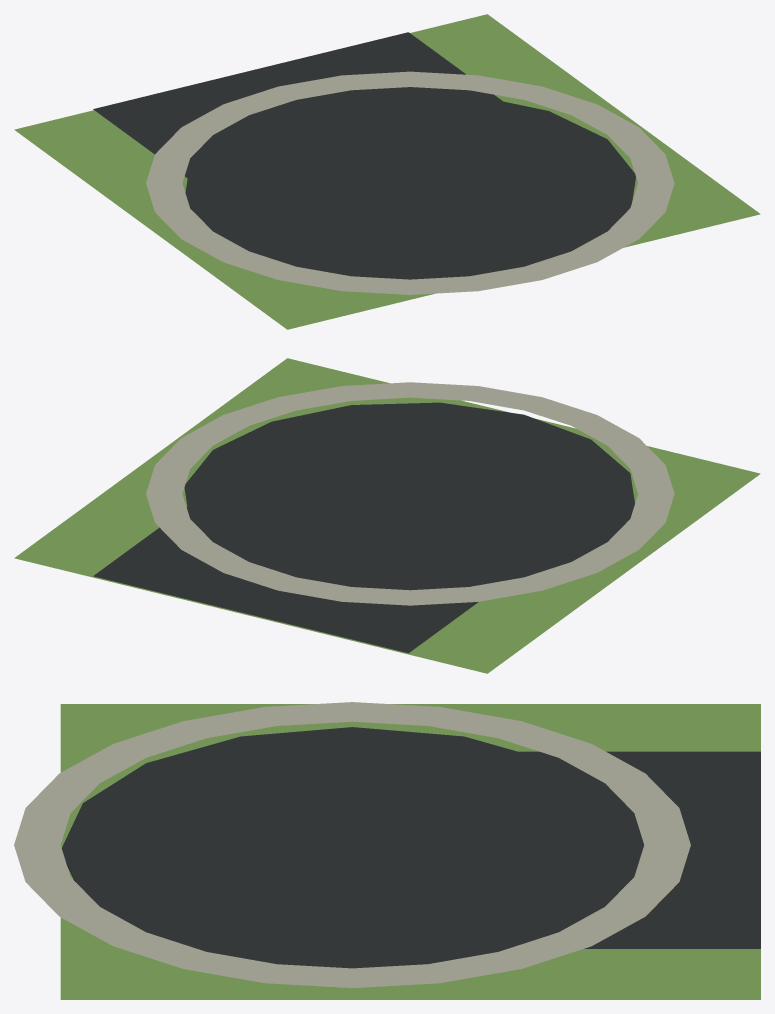
File: RoadDeadEnd.obj
The picture shows the model from 3 angles, top to bottom: view 1: azimuth 30°, elevation 25°; view 2: azimuth 150°, elevation 25°; view 3: azimuth 270°, elevation 25°; orthographic projection. The views are drawn at different scales.
Parts seen in each view (by area): view 1: RoadDeadEnd; view 2: RoadDeadEnd; view 3: RoadDeadEnd.
Boxes of the visible parts, x1,y1,x2,y2 form: RoadDeadEnd: [14, 14, 760, 329]; RoadDeadEnd: [14, 358, 760, 673]; RoadDeadEnd: [14, 702, 760, 999].
Size of the model in its own units: 12 by 0.13 by 12.8.
